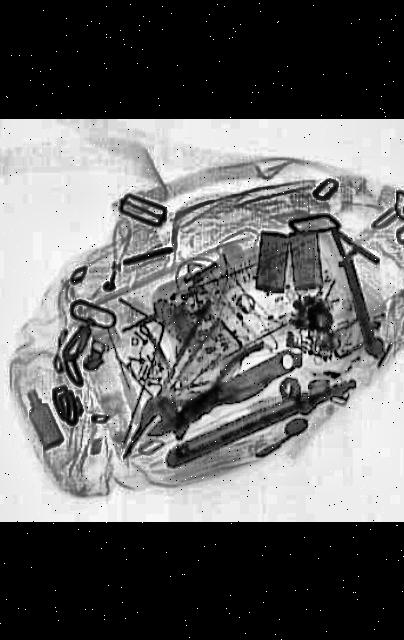Pliers: (114, 296, 234, 459), (162, 337, 301, 429)
Wrench: (128, 338, 316, 440)
